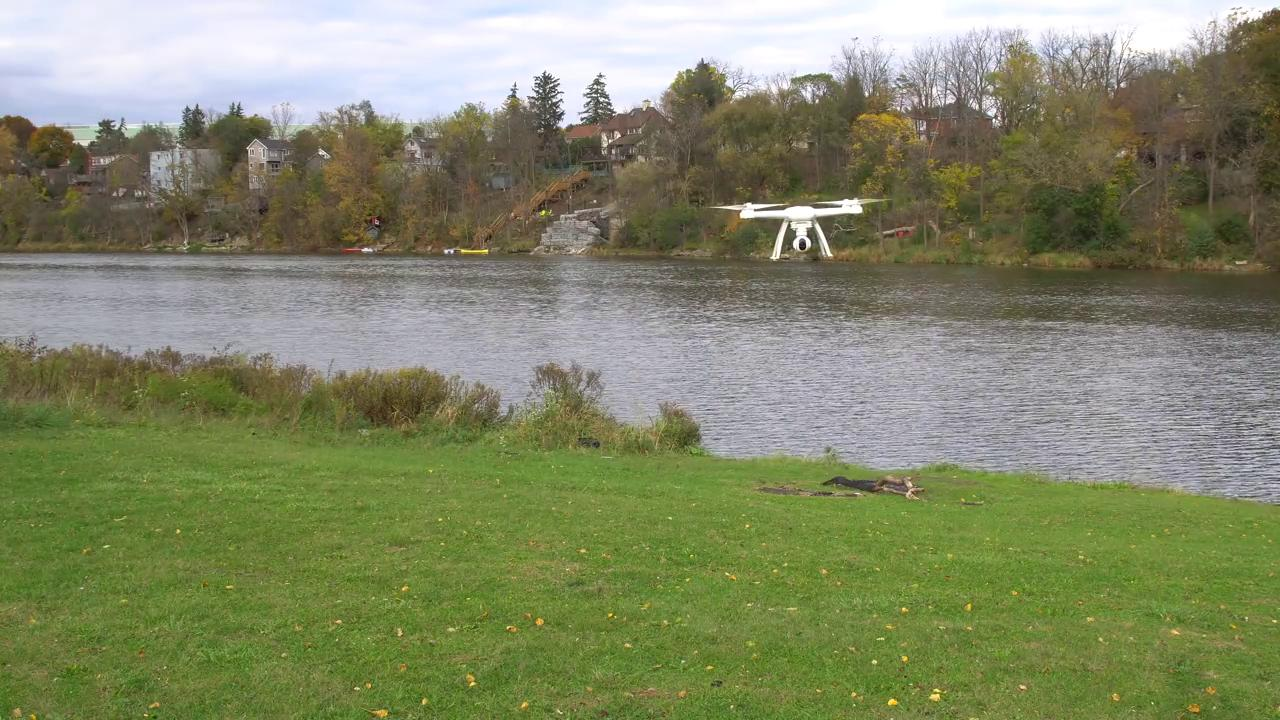drone: (716, 185, 888, 248)
